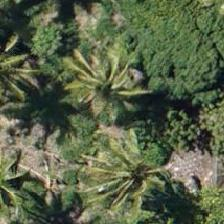coconut_tree: (78, 121, 168, 211), (56, 23, 146, 113), (0, 140, 46, 223)
